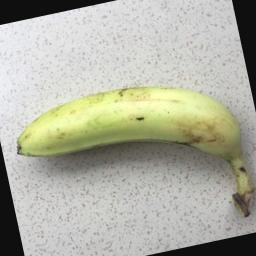Banana Ripe: (0, 54, 256, 226)
